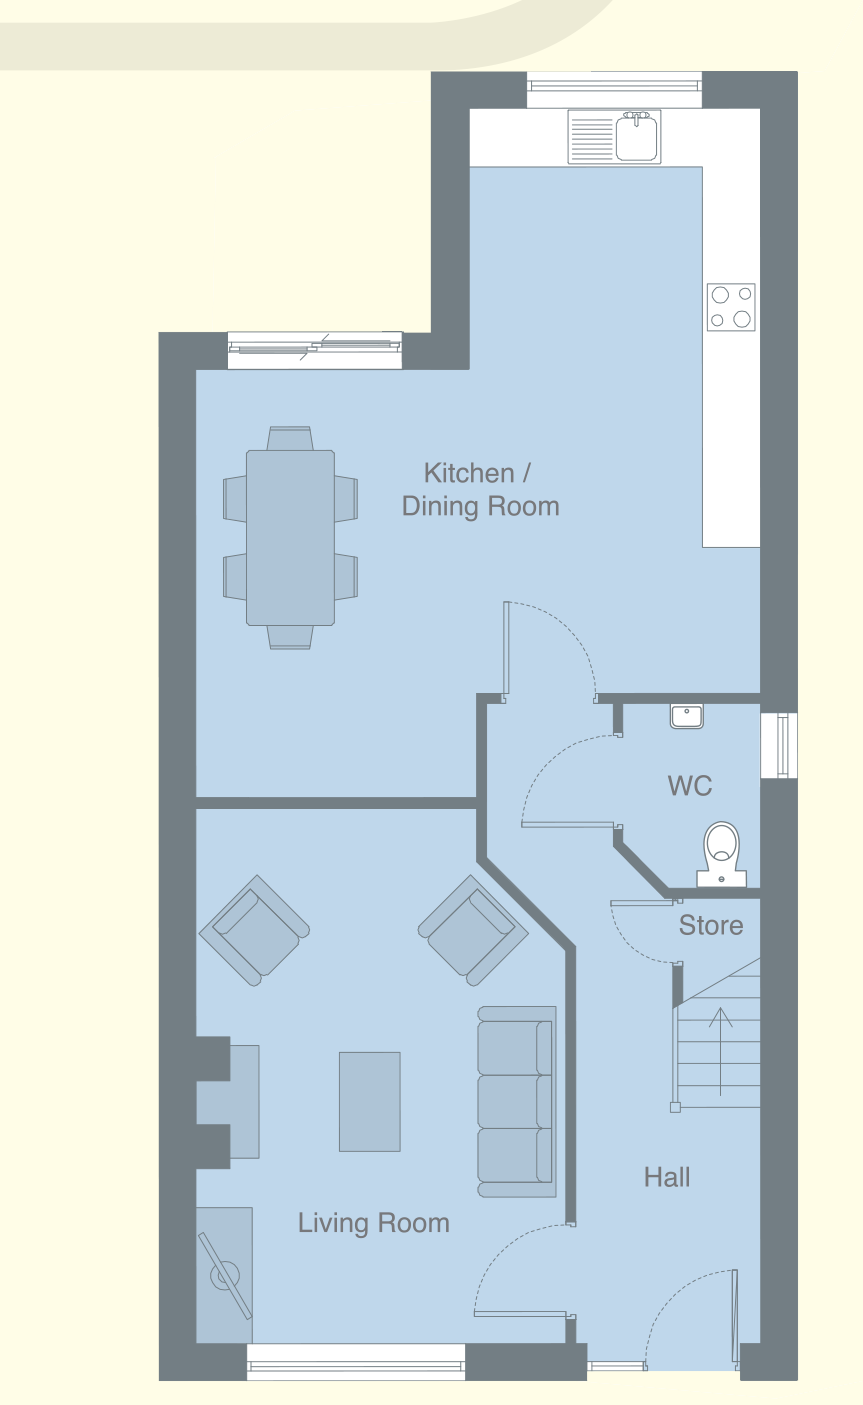room: (154, 794, 583, 1381), (430, 73, 800, 707), (594, 692, 803, 904)
